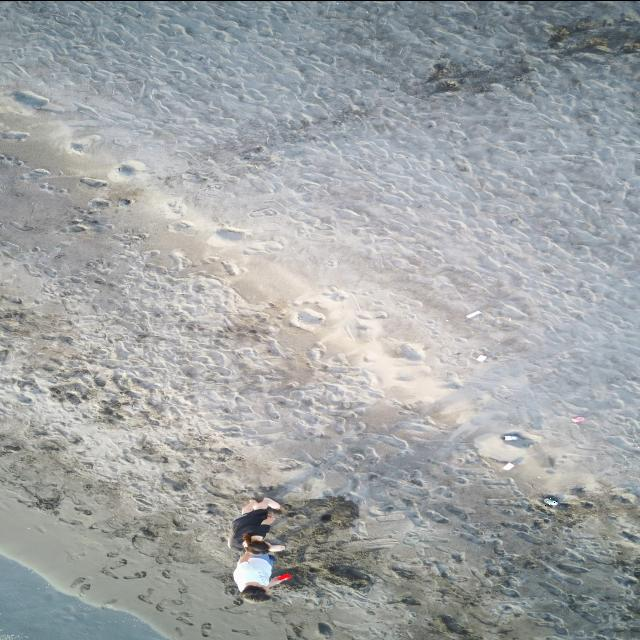Garbage: (501, 432, 533, 447), (502, 457, 523, 470), (544, 495, 557, 506), (276, 572, 292, 580), (466, 311, 480, 318), (572, 415, 584, 423), (504, 433, 517, 440), (502, 462, 513, 470), (476, 353, 486, 360)
